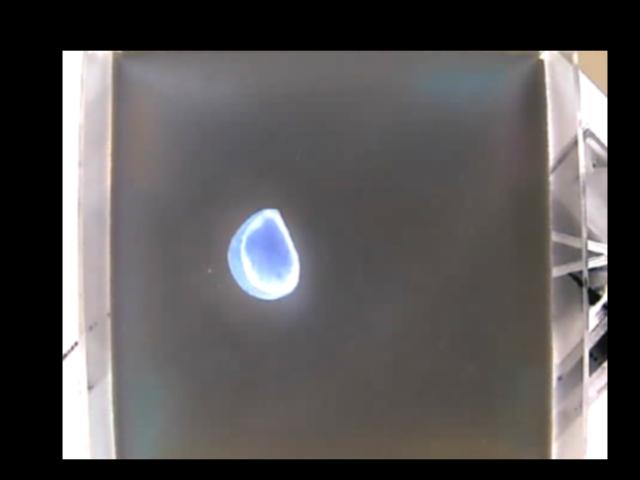Potato: (226, 207, 300, 302)
